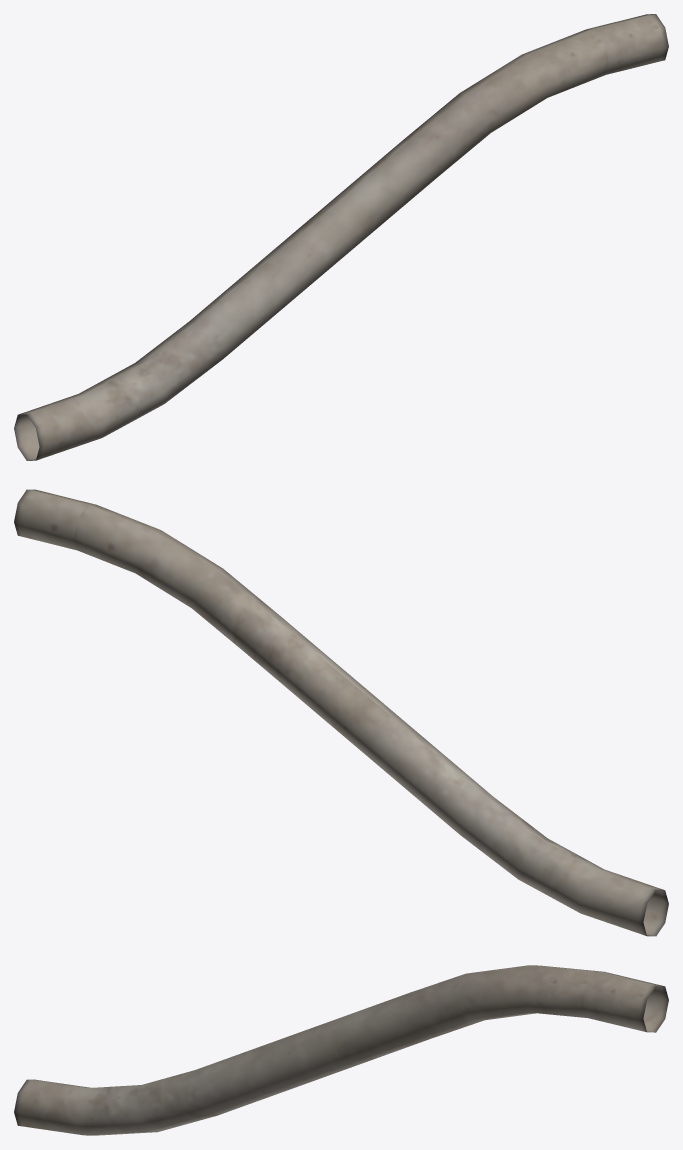
File: curtain_changeheight_short.dae
3 views of the same model, one above another, from view 1: azimuth 30°, elevation 25°; view 2: azimuth 150°, elevation 25°; view 3: azimuth 330°, elevation 25° (orthographic).
Parts seen in each view (by area): view 1: chaingeheight_small; view 2: chaingeheight_small; view 3: chaingeheight_small.
Boxes of the visible parts, x1=… form: chaingeheight_small: x1=14, y1=14, x2=668, y2=460; chaingeheight_small: x1=14, y1=489, x2=668, y2=936; chaingeheight_small: x1=14, y1=965, x2=668, y2=1135.
Bounding box in the file's own units: 1 × 0.4454 × 0.0706.
